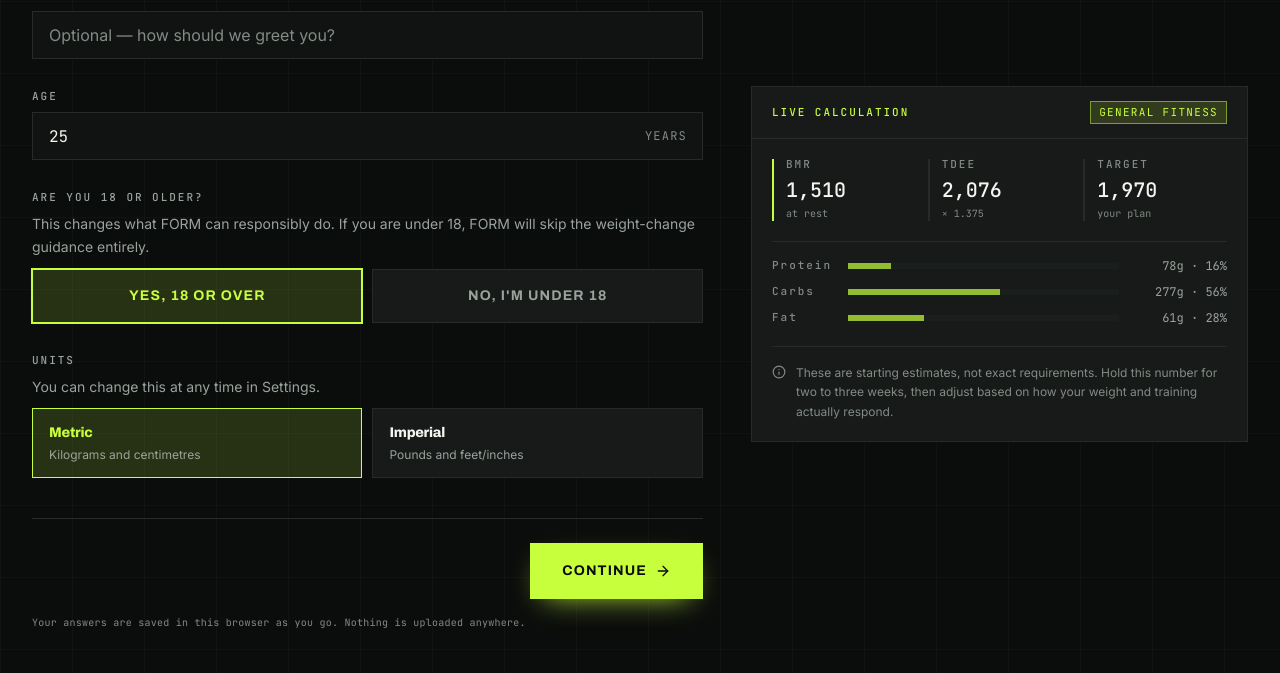
Test case: the body step › refuses to continue with the height cleared, instead of using 170
(page scrolled)
Click the button "Continue" at {"x": 617, "y": 571}, box [530,543,703,599]
(page scrolled)
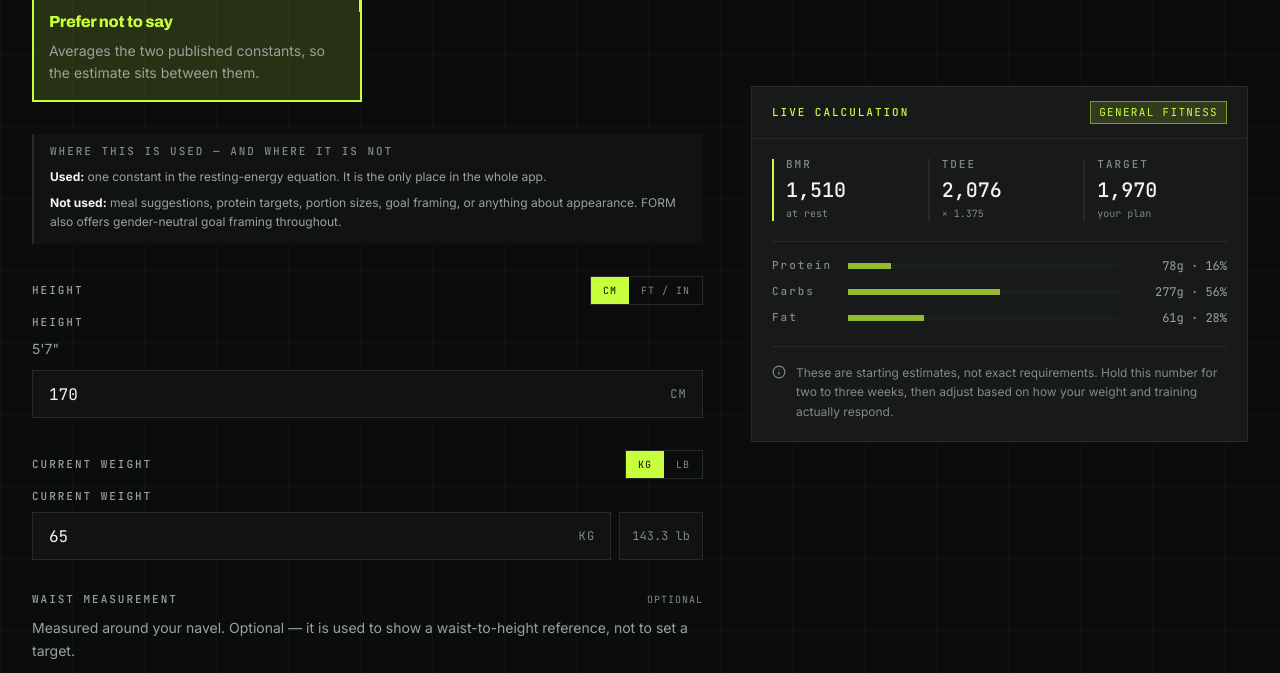
Clear the number field labelled "Height" at {"x": 368, "y": 394}, box [32,370,703,418]
(page scrolled)
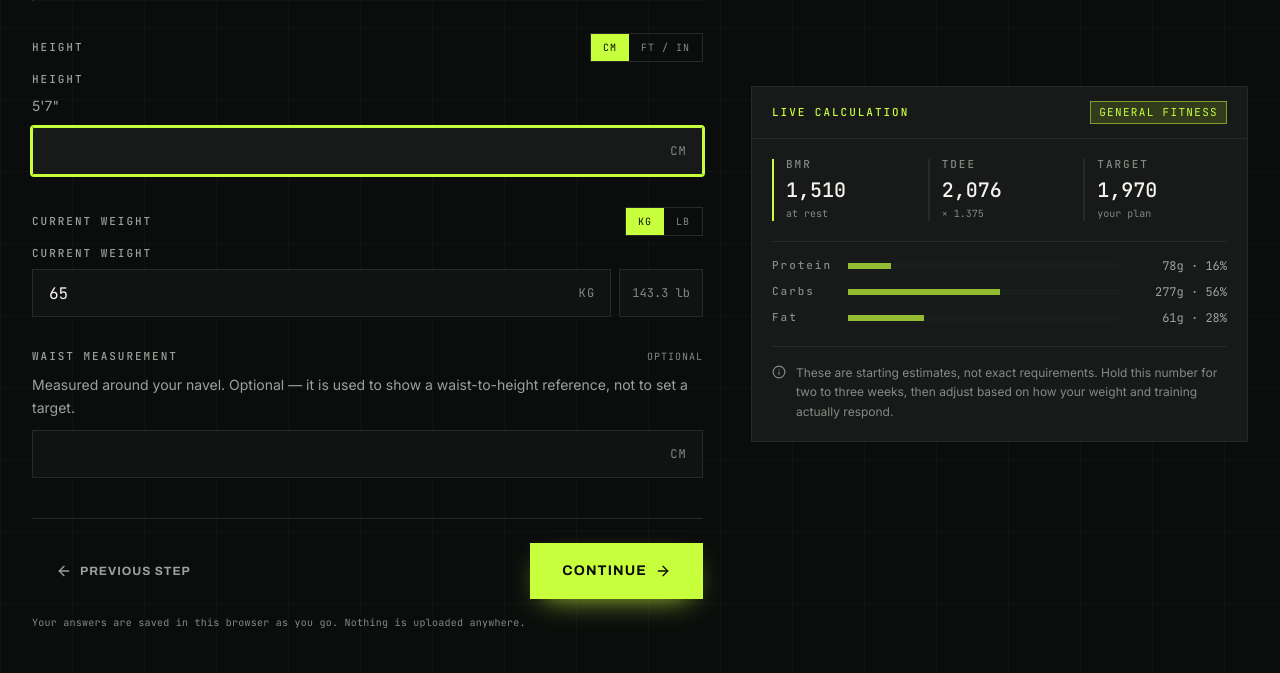
Click the button "Continue" at {"x": 617, "y": 571}, box [530,543,703,599]
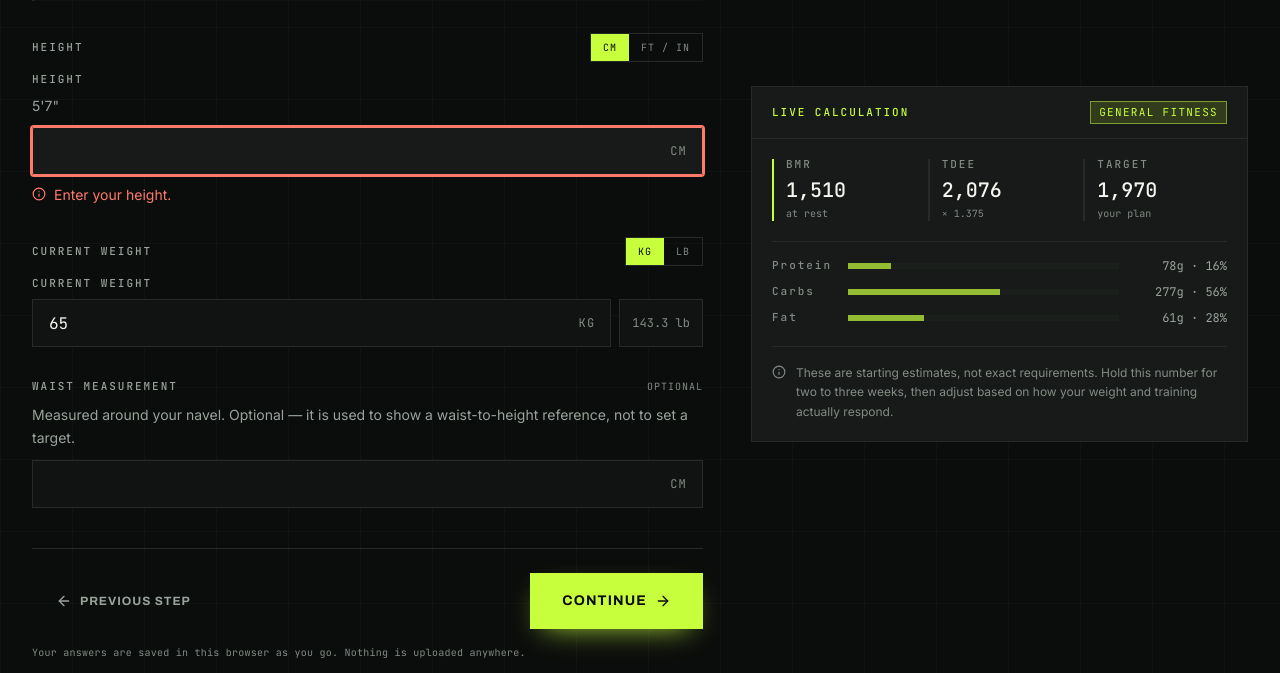
Expected: the text "Enter your height." is shown, [32,186,171,203]
